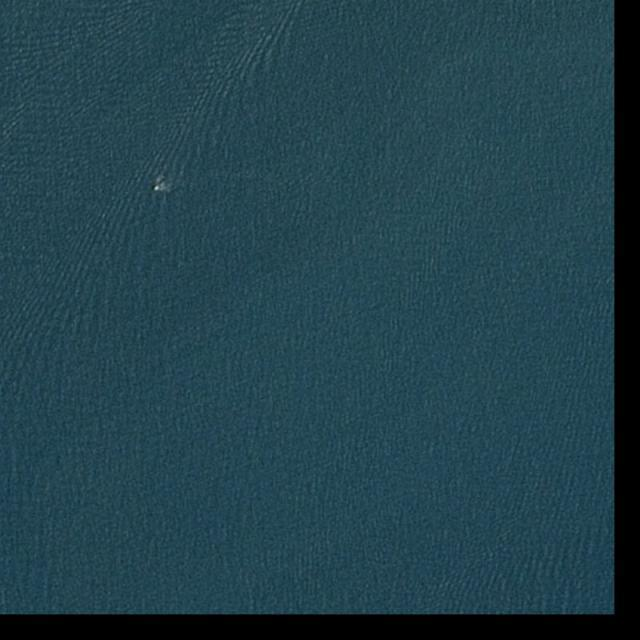ship: (154, 182, 166, 192)
